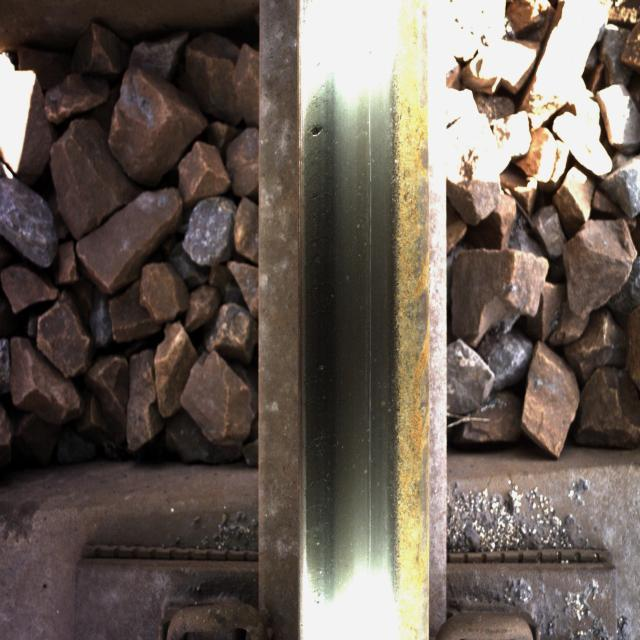crack: (293, 76, 367, 186)
